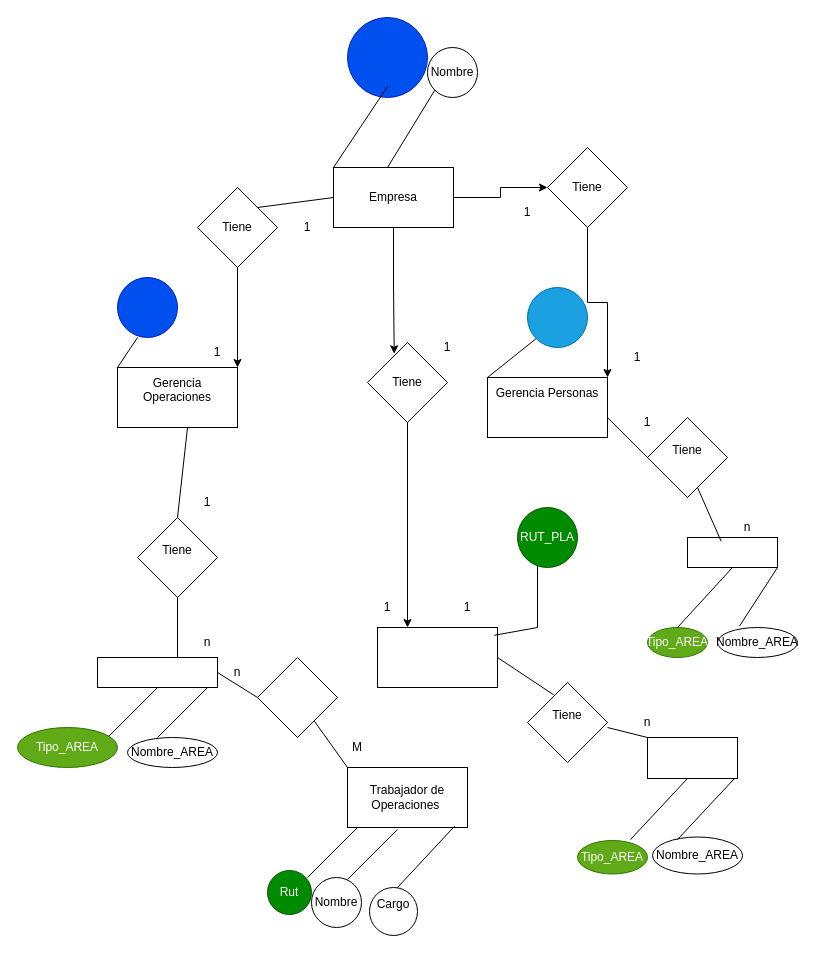
Image size: 816x953. Some labels were removed from this diagram. The shapes that lost their labels are listed below. From the top down, each one's centre as x and y in pixels, then its label:
point 387,57: ID_Empresa
point 147,307: RUT_Ope
point 557,317: RUT_PE
point 732,552: Area de Personas
point 157,672: Área de Operaciones
point 437,657: Gerencia de Planificación
point 297,697: Trabaja
point 692,757: Area de Planificacion
